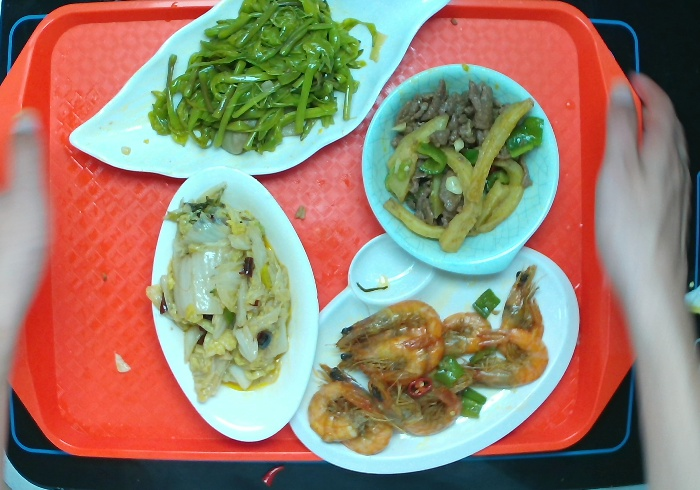RJxy-Bai_Se_Tuo_Yuan: (143, 164, 323, 447)
RJxy-Shu_Ye_Pan: (65, 1, 454, 183)
RJxy-Xiao_Jiao_Yuan_Wan: (355, 60, 565, 281)
RJxy-Zhan_Liao_Pan: (286, 228, 586, 478)
